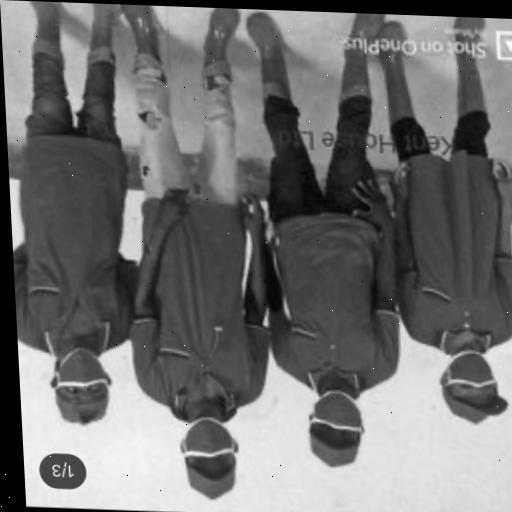mask: (179, 419, 240, 500), (439, 351, 499, 427), (52, 349, 112, 424), (308, 397, 365, 470)
